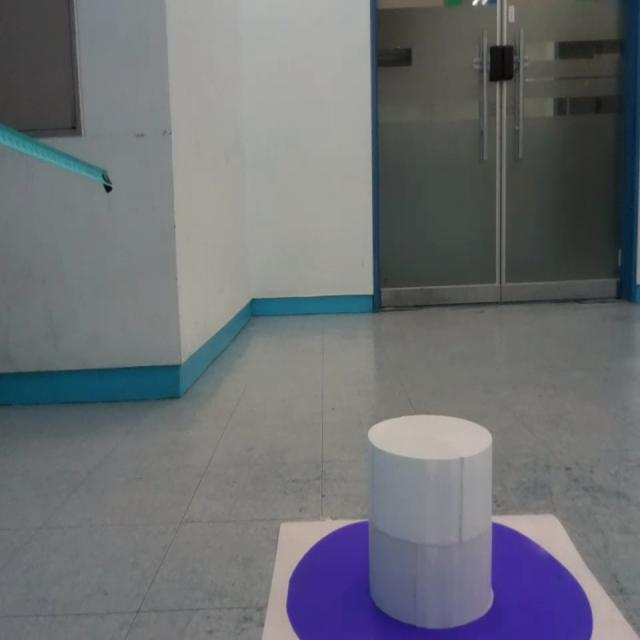cylinder: (365, 413, 495, 627)
